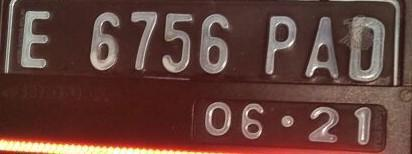clone-license-plate: (4, 0, 402, 150)
